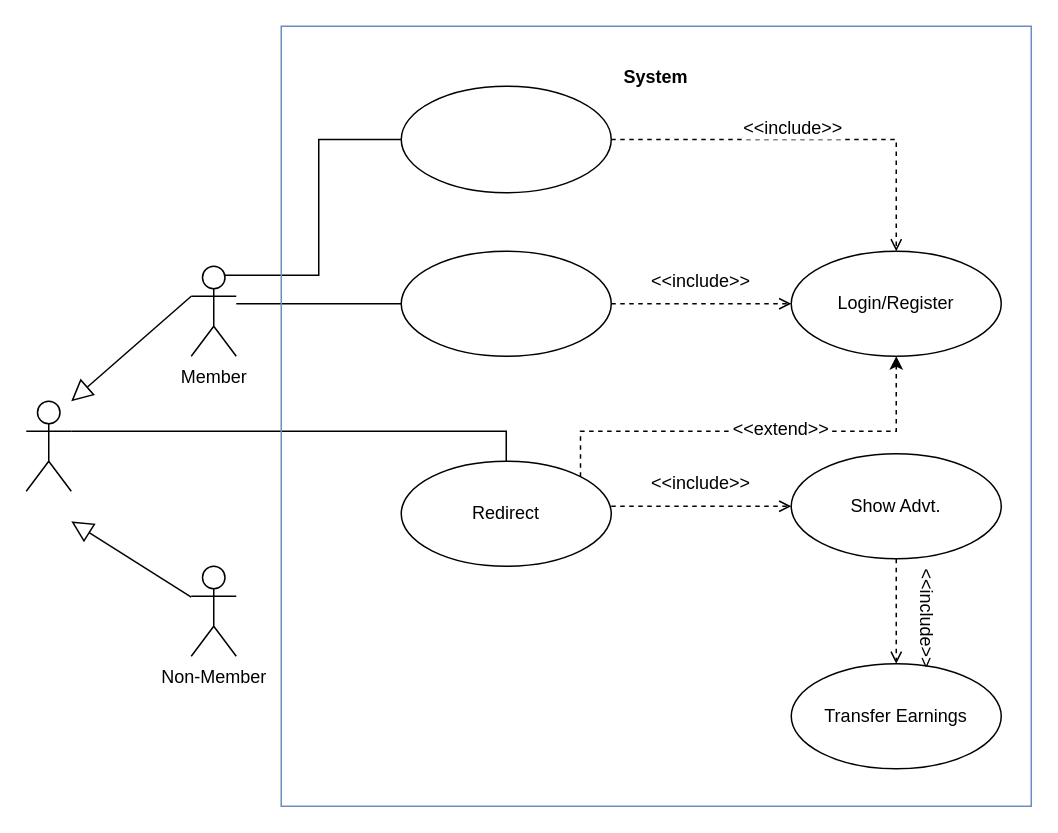
The diagram is 1058 pixels wide and 833 high, and some of its shapes have lost their labels. Each missing label, with the box of its shape:
Shorten URL: (400, 250, 611, 356)
User: (25, 400, 71, 491)
Withdraw Earnings: (400, 85, 611, 193)
